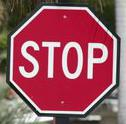Stop sign: (0, 0, 125, 123)
